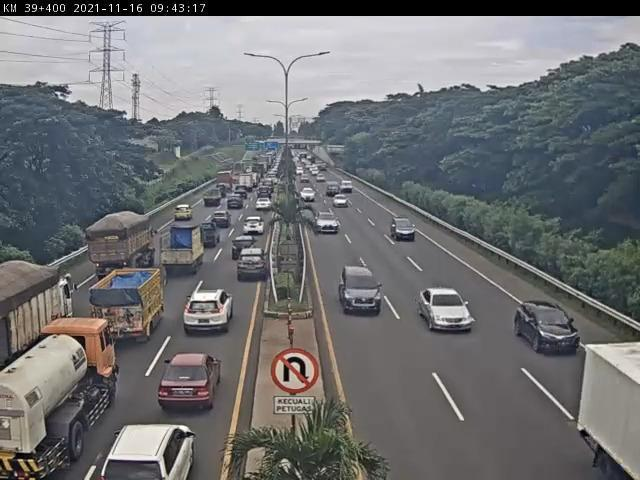car: (114, 421, 181, 475), (516, 303, 582, 356), (418, 287, 474, 339), (167, 359, 216, 412), (189, 288, 233, 340), (342, 264, 382, 311), (236, 251, 268, 287), (388, 214, 414, 241), (316, 213, 340, 238), (235, 237, 252, 259), (171, 205, 189, 225), (213, 209, 229, 231), (248, 220, 263, 243), (330, 189, 348, 205), (301, 181, 317, 197), (325, 178, 339, 196), (229, 196, 241, 211), (257, 203, 270, 216)
truck: (1, 313, 113, 480), (3, 259, 77, 388), (88, 211, 158, 291), (100, 263, 167, 336), (164, 226, 206, 272), (197, 222, 221, 249), (205, 189, 222, 206)
